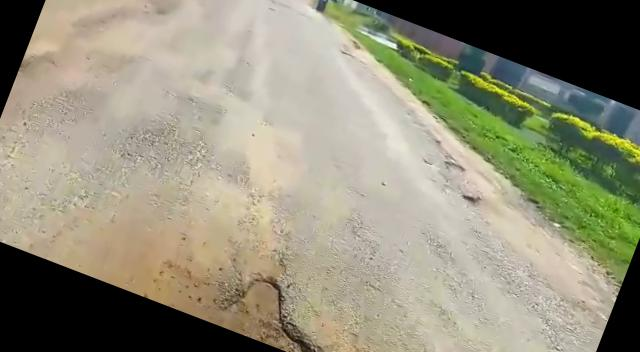pothole: (149, 242, 485, 352)
